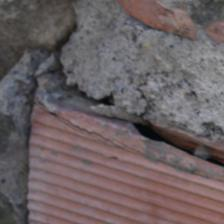Crack: (61, 28, 222, 167)
